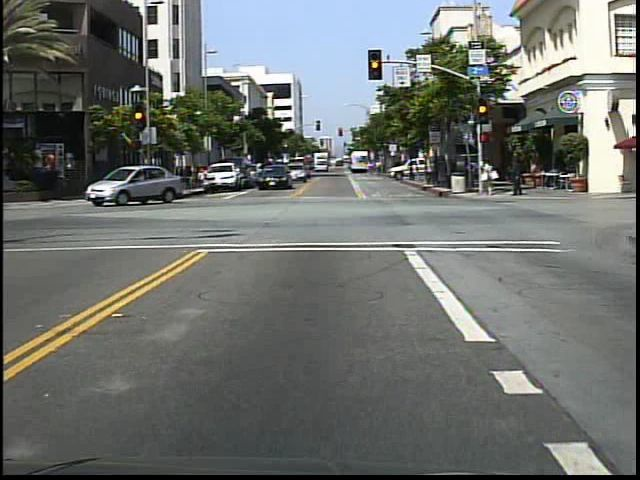person: (478, 156, 499, 200), (509, 154, 526, 197), (124, 164, 142, 200)
